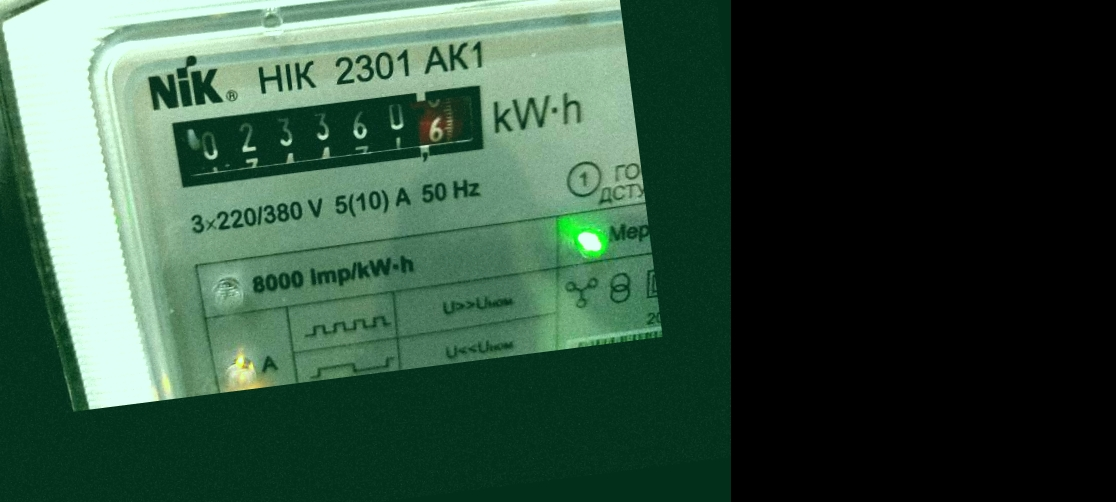0: (196, 127, 221, 162), (385, 99, 406, 132)
2: (234, 119, 261, 155)
3: (271, 114, 296, 148), (310, 108, 333, 142)
6: (346, 107, 370, 141), (422, 112, 447, 143)
screen: (151, 65, 503, 205)
